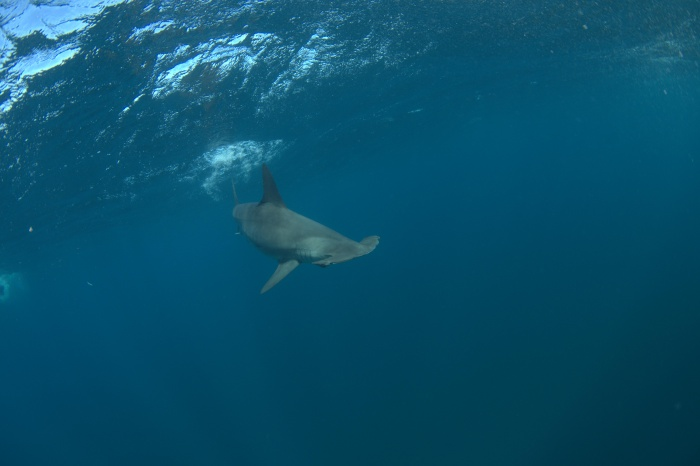Hammer: (198, 144, 404, 307)
